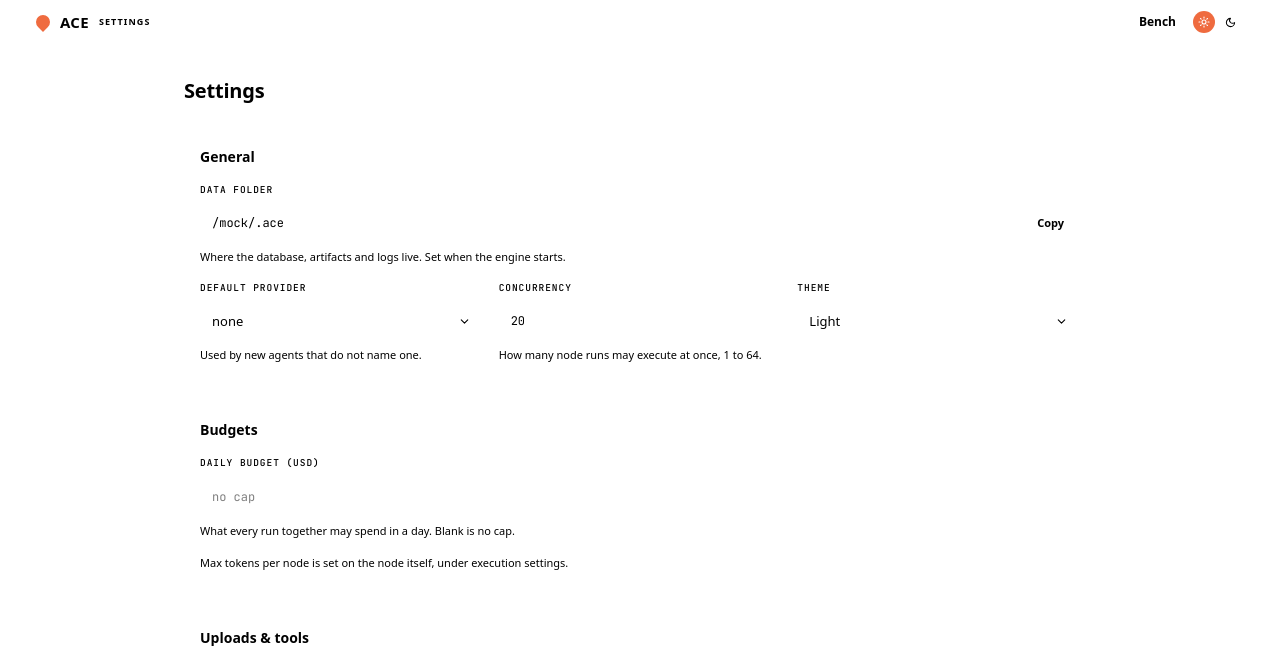
Test case: FR-SYS-005 Settings screen › refuses a concurrency outside 1–64 inline and never saves it
The image size is (1280, 664).
Replace the text in the number field with test id "settings-concurrency" with "0" at [640, 321], box [499,302,781,340]
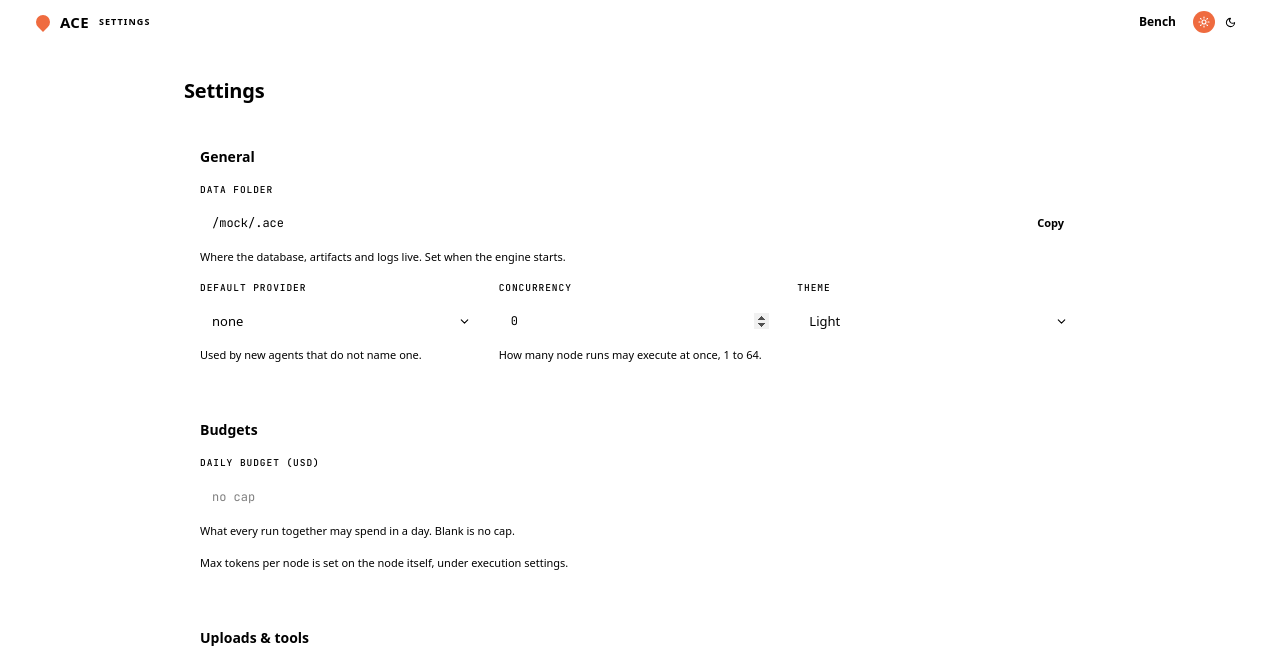
Leave the number field with test id "settings-concurrency", box [499,302,781,340]
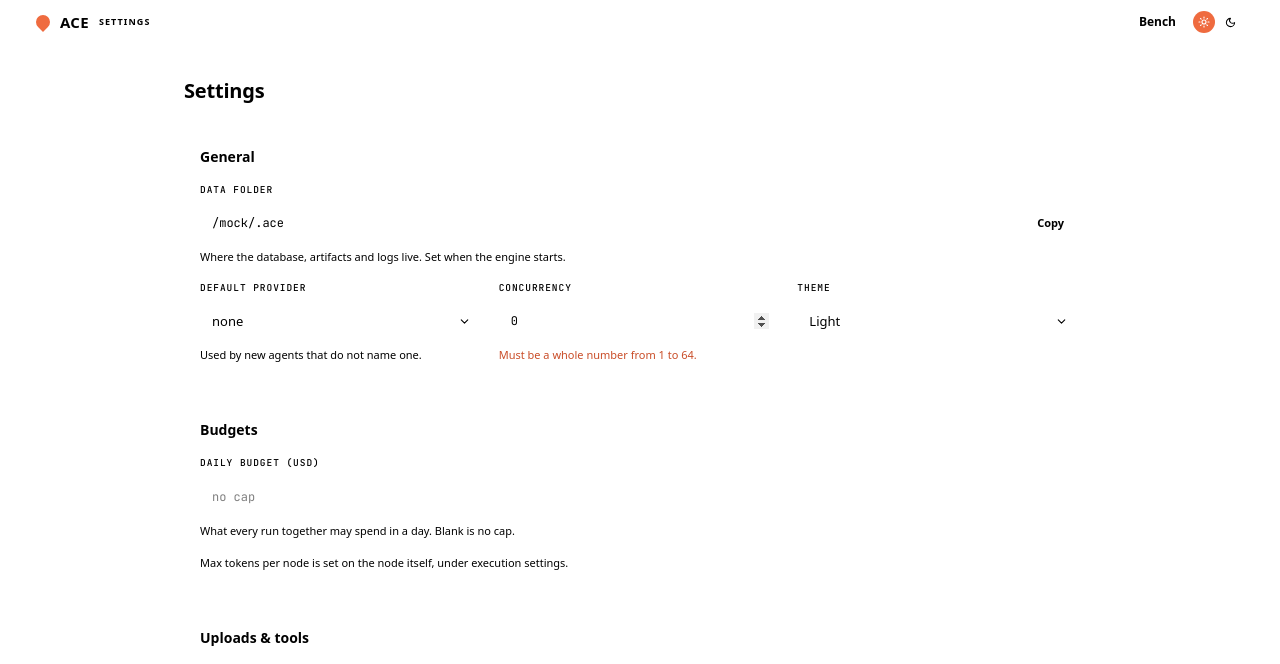
Check: the text "Must be a whole number from 1 to 64." is shown, box [499,347,697,362]
Replace the text in the number field labelled "Concurrency" with "65" at [640, 321], box [499,302,781,340]
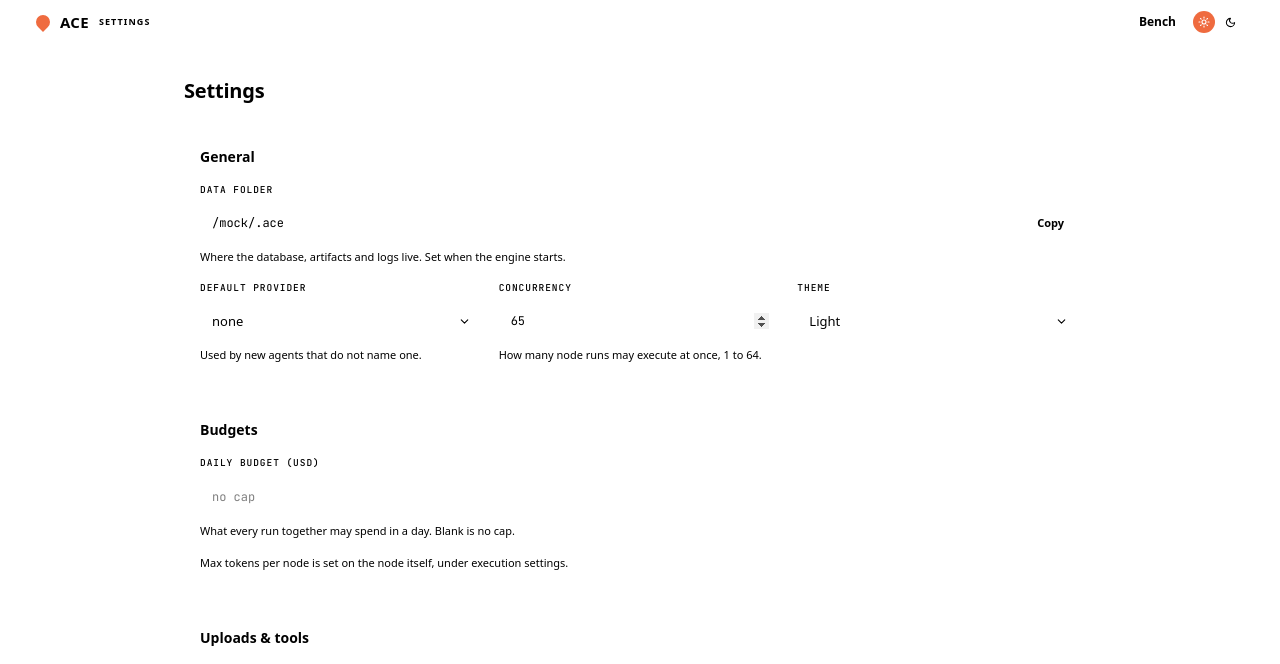
Leave the number field labelled "Concurrency", box [499,302,781,340]
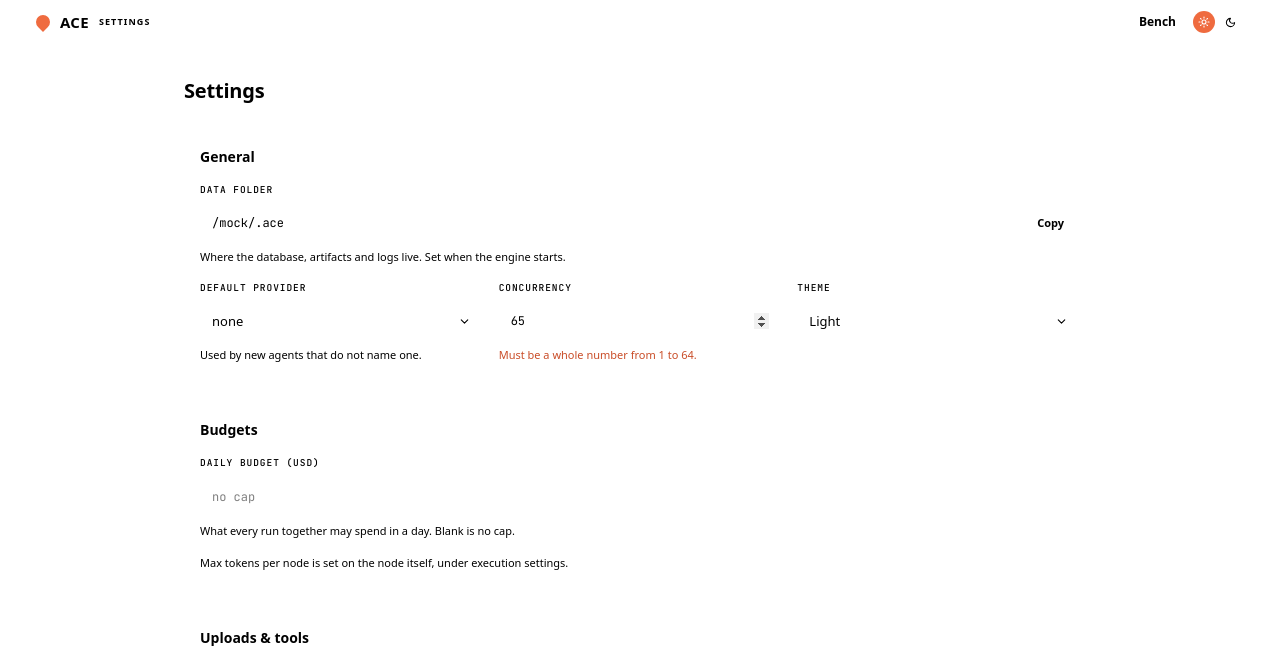
Check: the text "Must be a whole number from 1 to 64." is shown, box [499,347,697,362]
Replace the text in the number field labelled "Concurrency" with "2.5" at [640, 321], box [499,302,781,340]
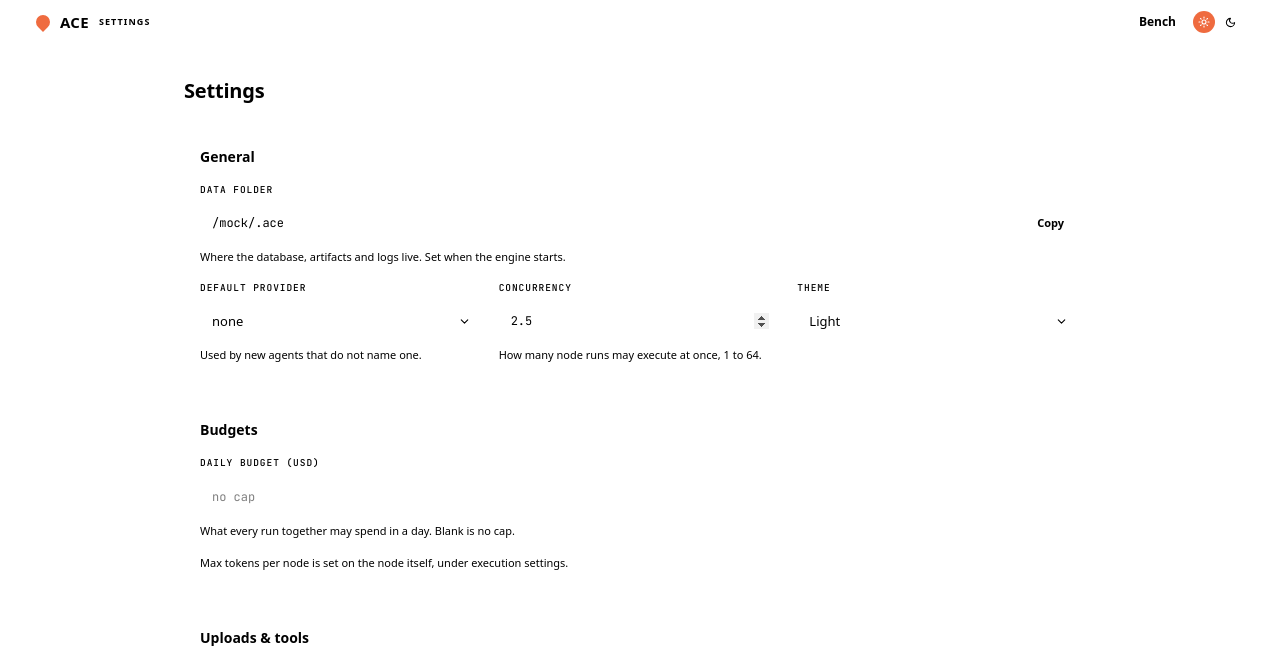
Leave the number field labelled "Concurrency", box [499,302,781,340]
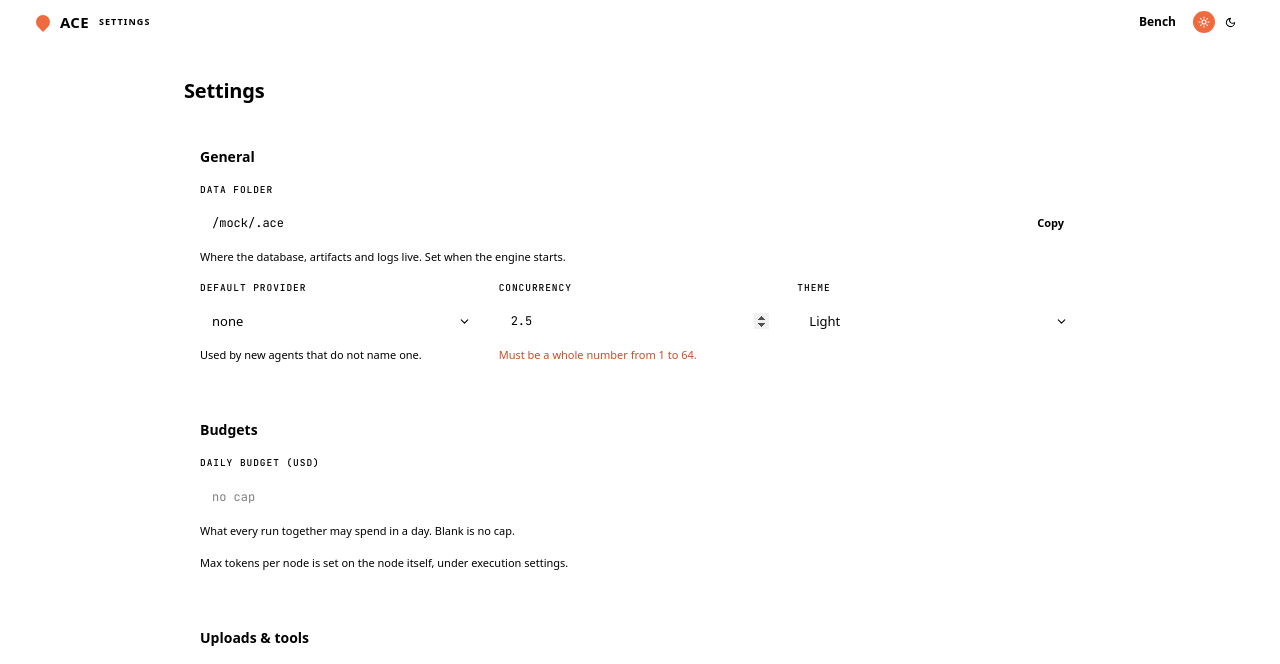
Check: the text "Must be a whole number from 1 to 64." is shown, box [499,347,697,362]
